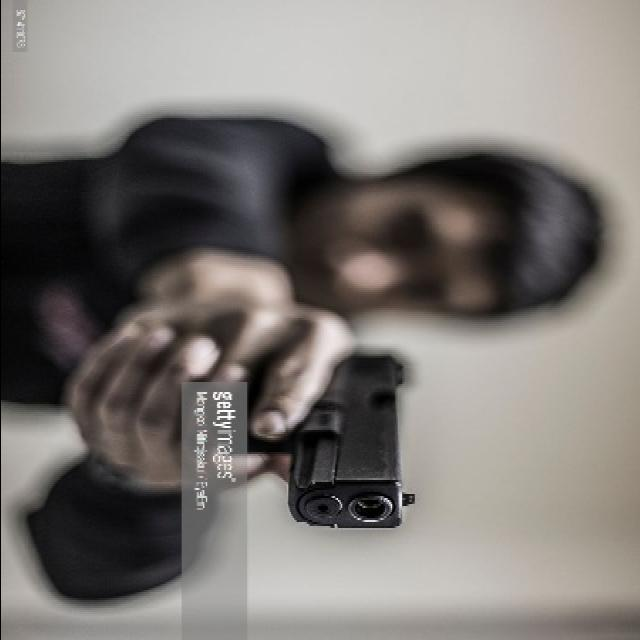handgun: (186, 345, 416, 535)
